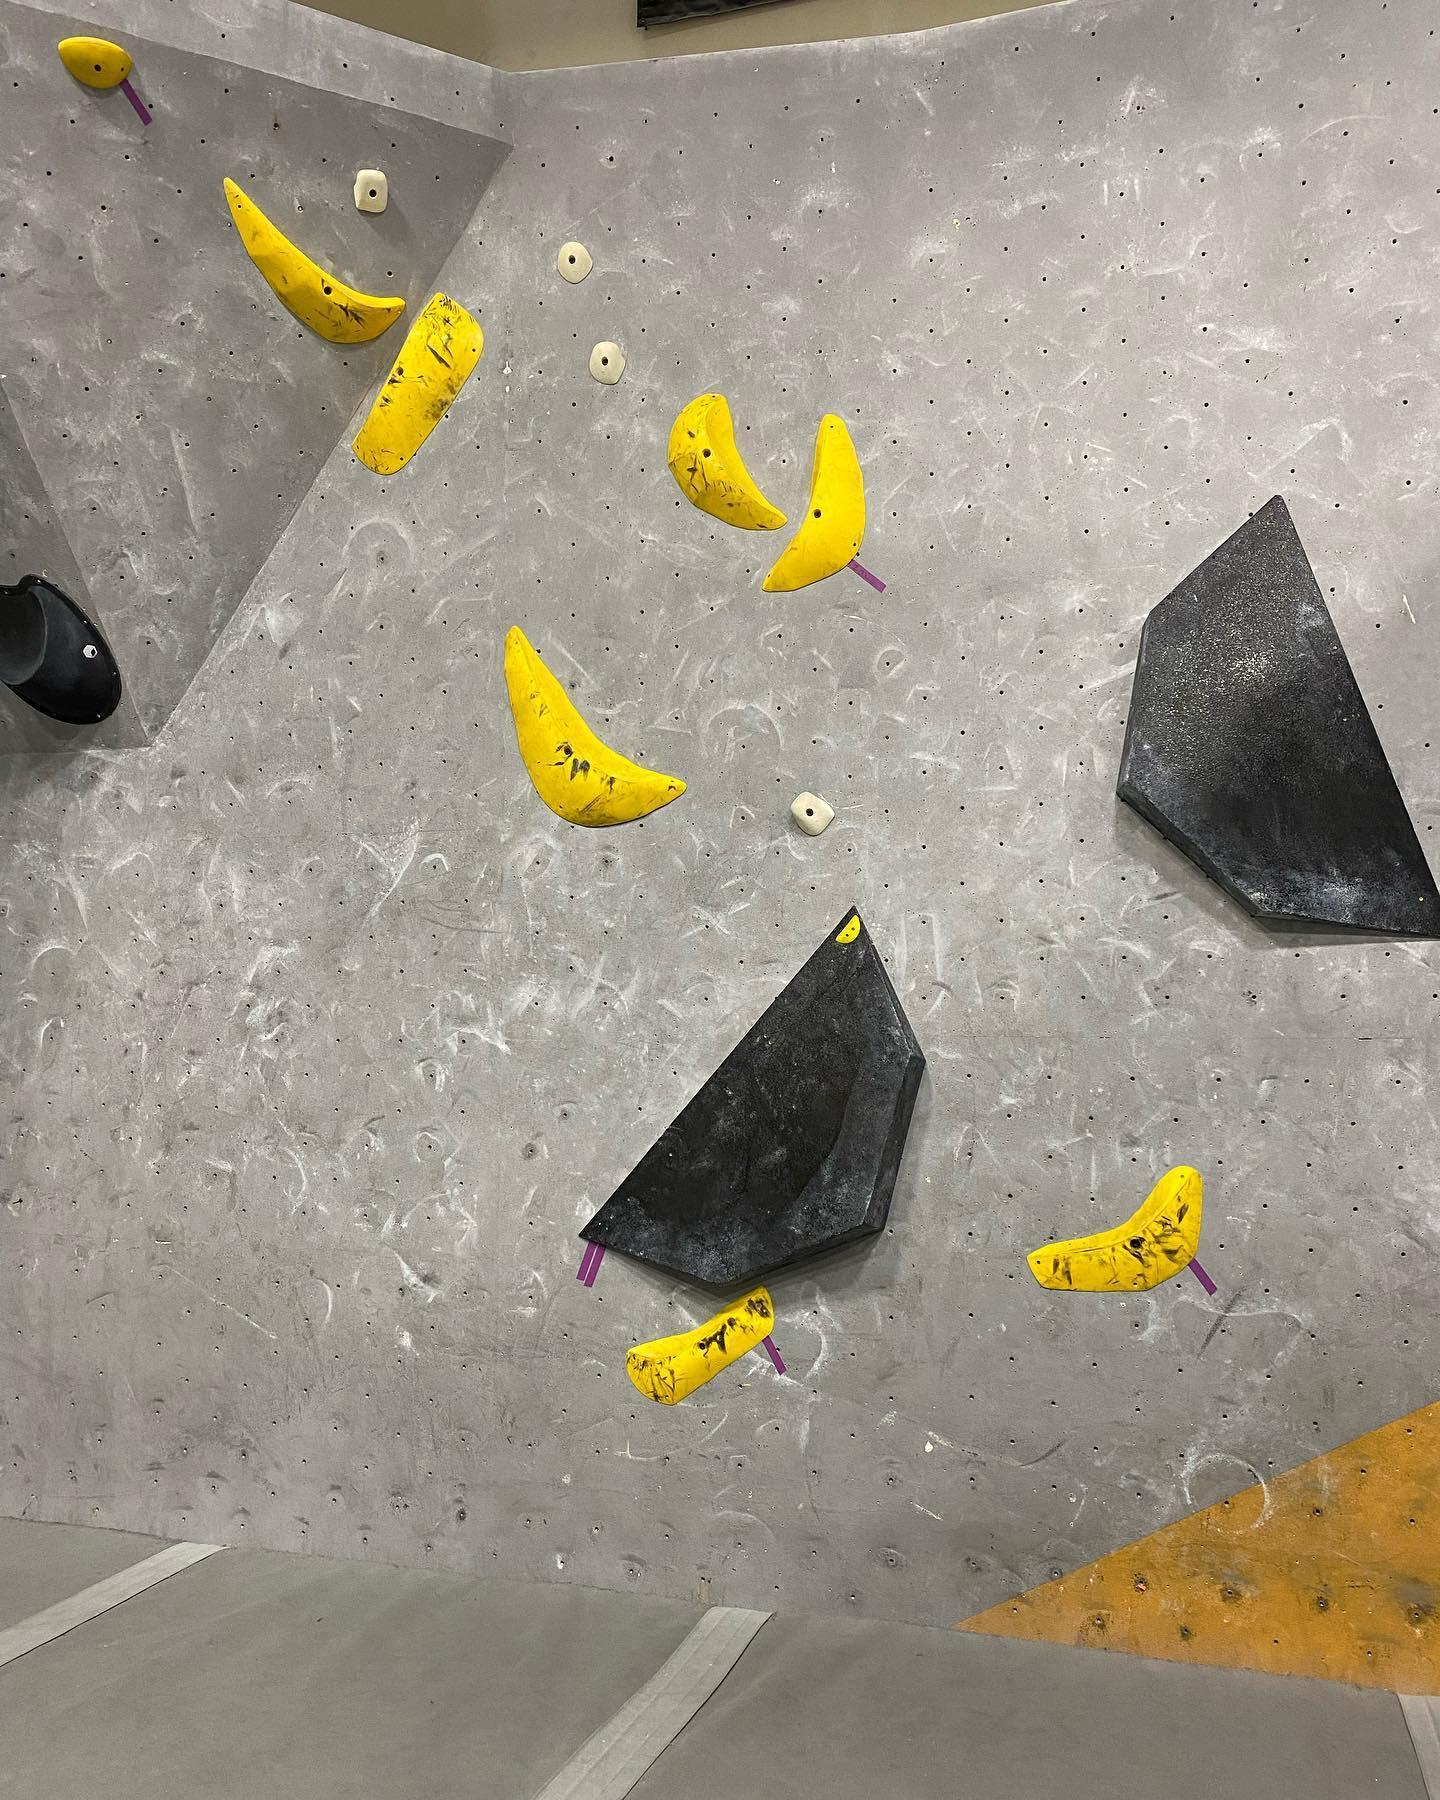hold: (503, 625, 687, 828), (224, 176, 406, 343), (351, 291, 484, 475), (1026, 1165, 1204, 1292), (0, 574, 122, 725), (624, 1286, 776, 1407), (763, 415, 865, 592), (668, 391, 789, 529), (57, 35, 133, 88), (790, 791, 835, 836), (353, 168, 389, 213), (589, 341, 626, 384), (557, 241, 593, 283), (836, 915, 860, 944)
volume: (1114, 490, 1440, 940), (576, 901, 926, 1293)
